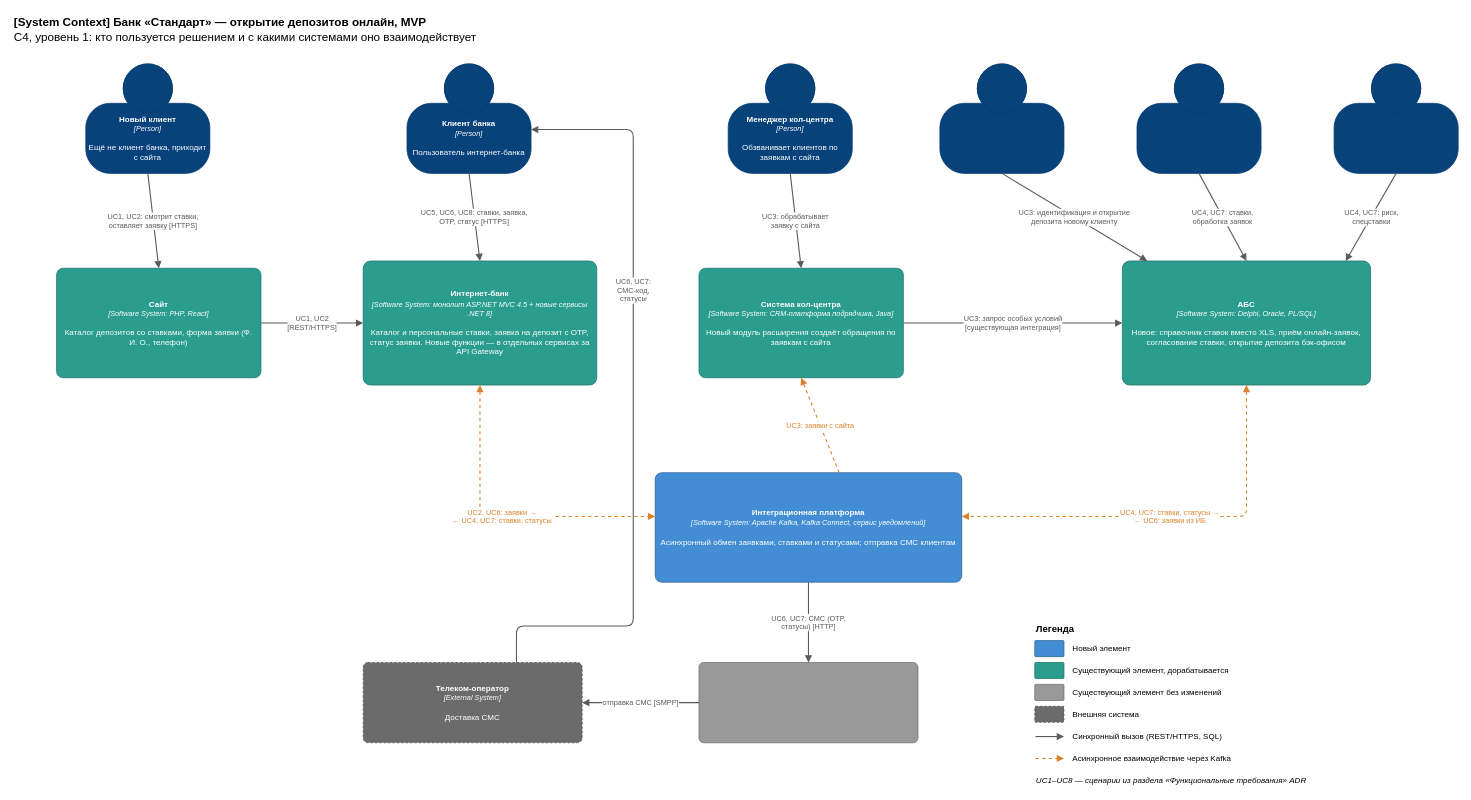
This 1471x800 diagram has some shape labels left out. The shapes that lost their labels are listed below. From the top down, each one's centre as x and y in pixels, then its label:
(1001,118): Сотрудник отделения [Person] Фронт-офис: идентифицирует нового клиента
(1198,118): Менеджер бэк-офиса депозитов [Person] Ставки, обработка заявок
(1395,118): Сотрудник кредитования [Person] Параметры кредитного риска, спецставки
(808,702): СМС-шлюз [Software System] Сопровождается IT-отделом банка
